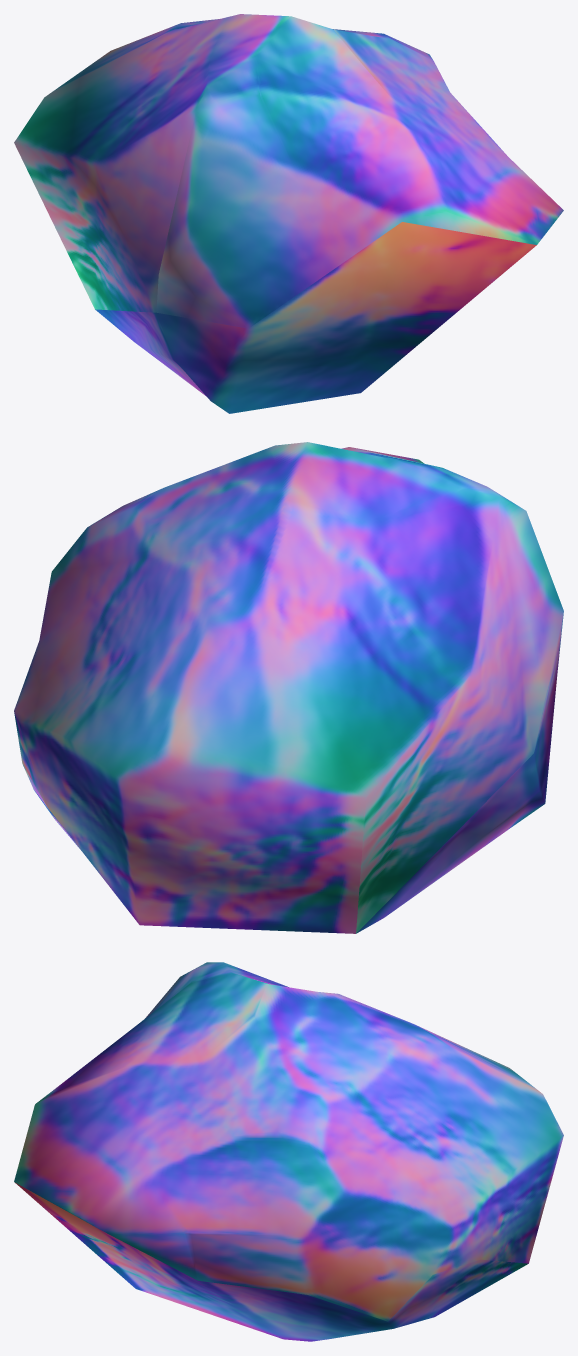
Rendered from SM_Rock01_LP.FBX.
3 views of the same model, one above another, from view 1: azimuth 30°, elevation 25°; view 2: azimuth 150°, elevation 25°; view 3: azimuth 270°, elevation 25° (orthographic). The views are drawn at different scales.
Parts seen in each view (by area): view 1: Rock_1_L; view 2: Rock_1_L; view 3: Rock_1_L.
Part boxes in pixels (x1,y1,x2,y2): Rock_1_L: (14,14,563,413); Rock_1_L: (14,442,563,933); Rock_1_L: (14,962,563,1341).
Bounding box in the file's own units: 61.79 × 56.35 × 87.93.
